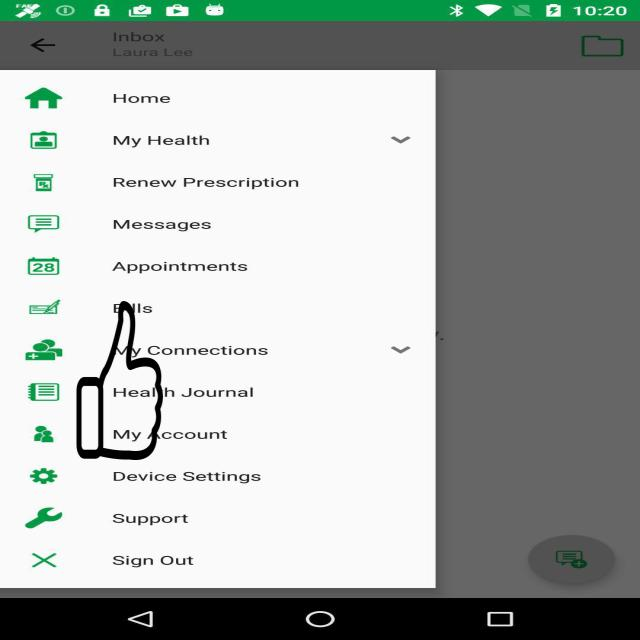privacy zuckering: (75, 301, 164, 460)
